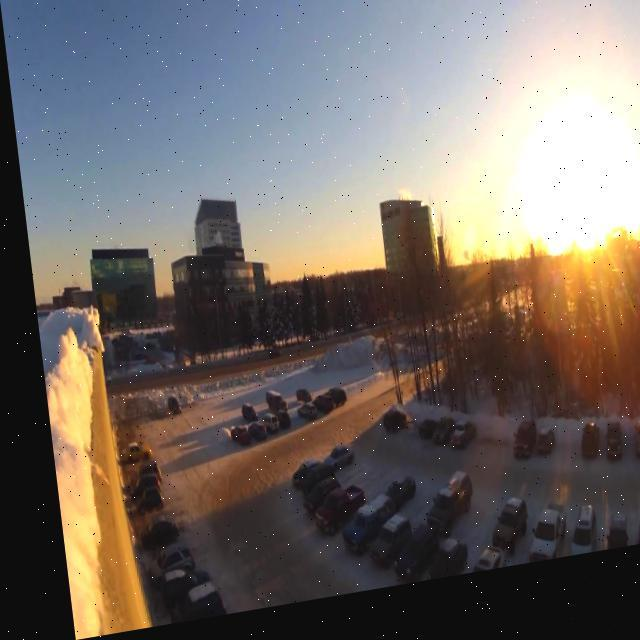Fire: (198, 236, 217, 252)
